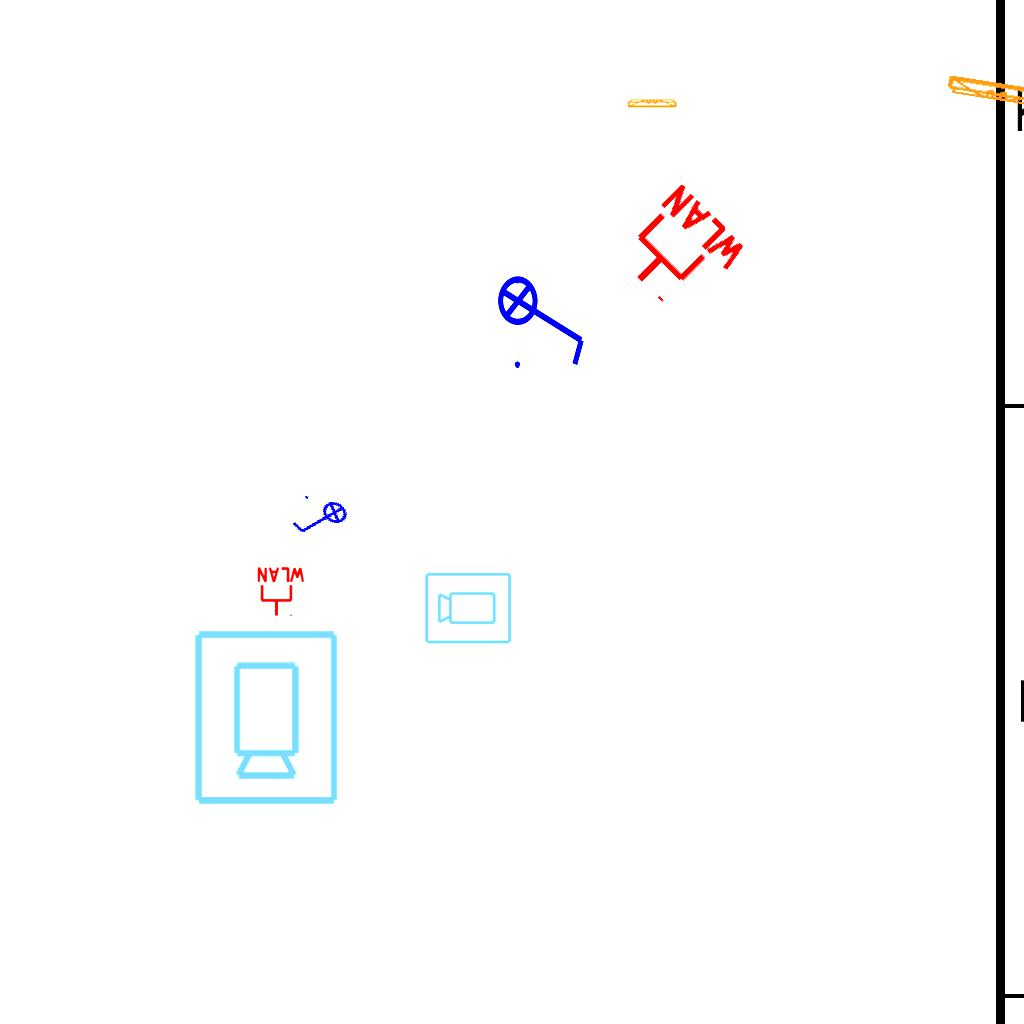Ausschalter_beleuchtet: (496, 262, 592, 374), (285, 485, 357, 555)
KFO_Kamera_mit_Festobjektiv: (188, 626, 342, 808), (423, 569, 514, 646)
Sicherheitsleuchte_Wandeinbau: (892, 63, 1024, 114), (625, 97, 704, 109)
WLAN: (605, 178, 754, 326), (255, 566, 307, 618)
